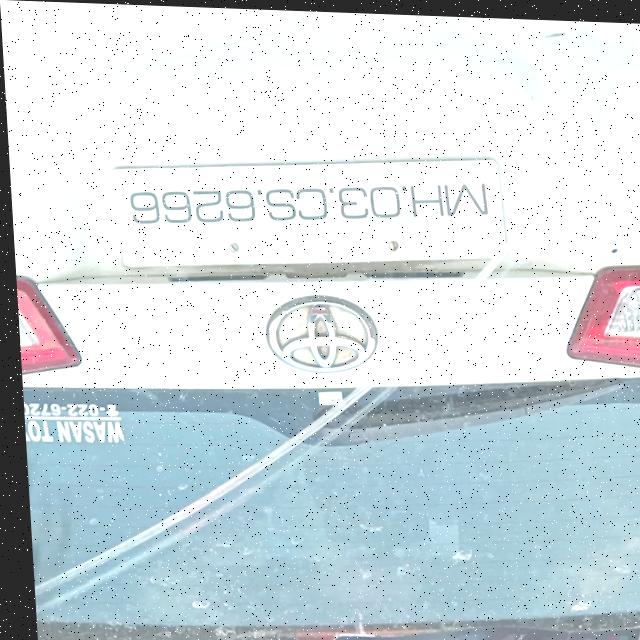plate: (107, 144, 507, 281)
